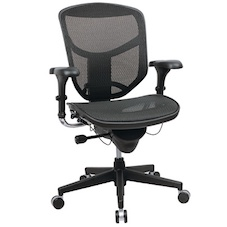chair: (37, 2, 192, 223)
